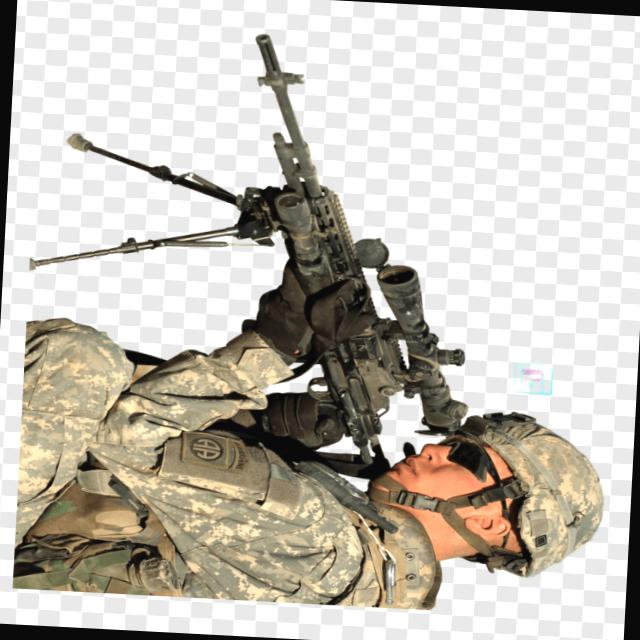long weapon: (106, 24, 483, 437)
